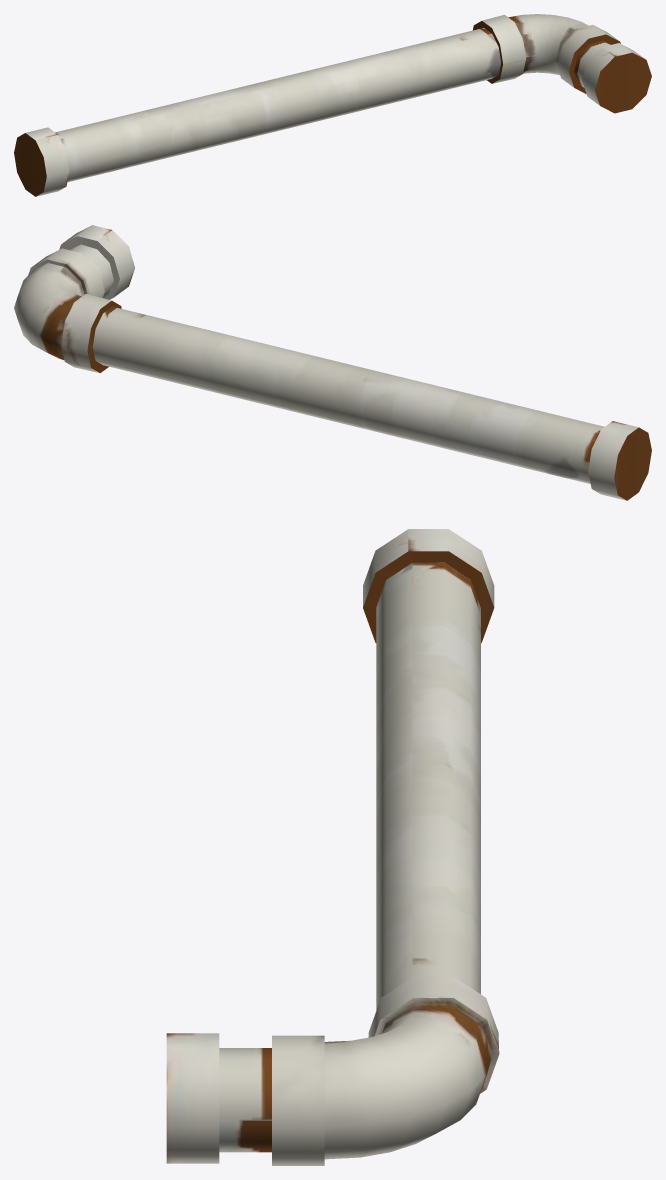
The picture shows the model from 3 angles, top to bottom: view 1: azimuth 30°, elevation 25°; view 2: azimuth 150°, elevation 25°; view 3: azimuth 270°, elevation 25°; orthographic projection. The views are drawn at different scales.
Parts seen in each view (by area): view 1: body0_model0_lod0_mesh0; view 2: body0_model0_lod0_mesh0; view 3: body0_model0_lod0_mesh0.
Part boxes in pixels (box(x1,y1,x2,y2)): body0_model0_lod0_mesh0: box(14, 14, 651, 196); body0_model0_lod0_mesh0: box(14, 225, 651, 500); body0_model0_lod0_mesh0: box(166, 529, 499, 1165).
Bounding box in the file's own units: 97.72 × 9.69 × 25.3.
1 material, 1 textured.
